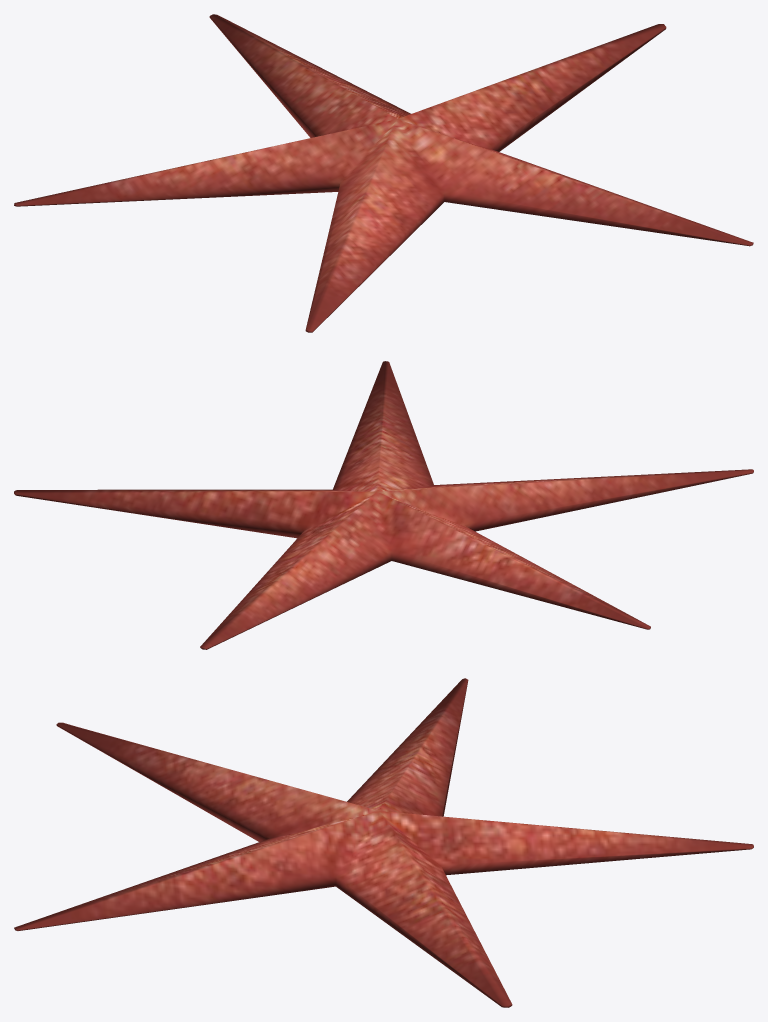
File: seaStarSlim.fbx
3 views of the same model, one above another, from view 1: azimuth 30°, elevation 25°; view 2: azimuth 150°, elevation 25°; view 3: azimuth 270°, elevation 25° (orthographic). The views are drawn at different scales.
Parts seen in each view (by area): view 1: seaStarSlimObject; view 2: seaStarSlimObject; view 3: seaStarSlimObject.
Part boxes in pixels (x1,y1,x2,y2): seaStarSlimObject: (14, 14, 753, 332); seaStarSlimObject: (14, 361, 753, 649); seaStarSlimObject: (14, 678, 753, 1007).
Size of the model in its own units: 17.84 by 1.05 by 17.04.
Materials: 1 (1 with a texture image).
